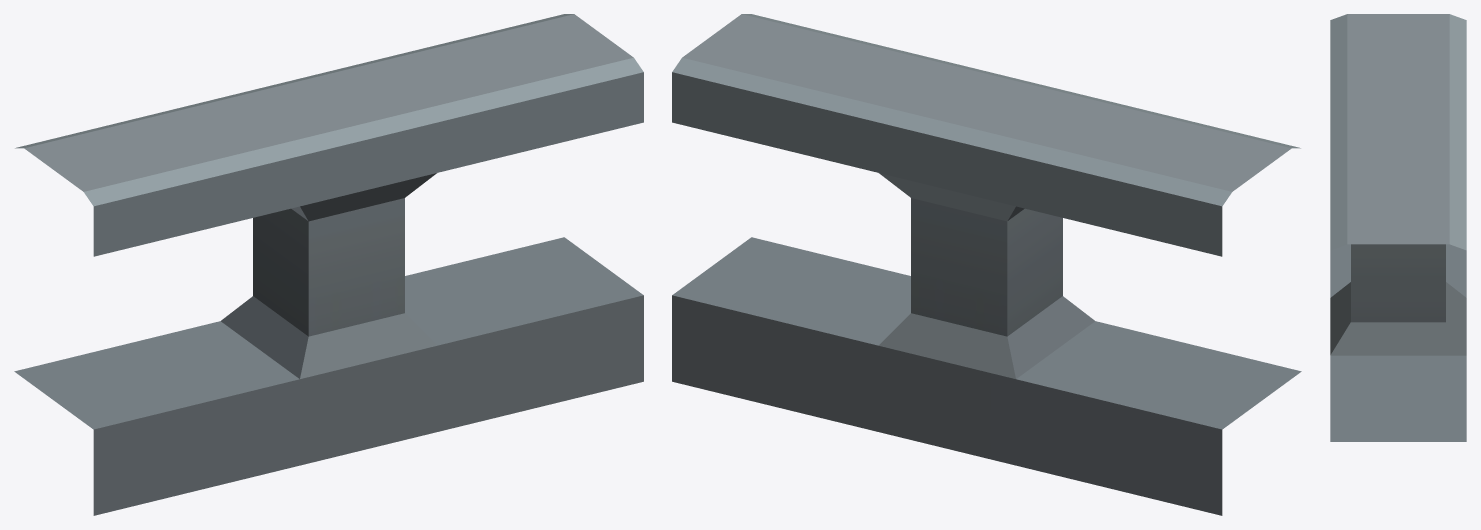
Rendered from kcas_barrier_half.glb.
The picture shows the model from 3 angles, left to right: view 1: azimuth 30°, elevation 25°; view 2: azimuth 150°, elevation 25°; view 3: azimuth 270°, elevation 25°; orthographic projection. The views are drawn at different scales.
Visible parts, largest first — view 1: barrier_half; view 2: barrier_half; view 3: barrier_half.
Part boxes in pixels (bbox=[...]): barrier_half: bbox=[14, 14, 643, 515]; barrier_half: bbox=[672, 14, 1301, 515]; barrier_half: bbox=[1330, 14, 1466, 441].
Bounding box in the file's own units: 2 × 1.1 × 0.5001.
1 material, 1 textured.
